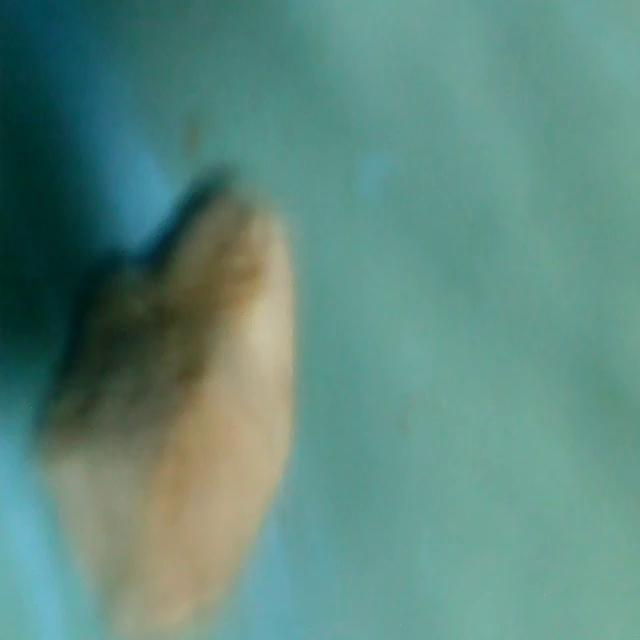rock: (20, 178, 304, 640)
